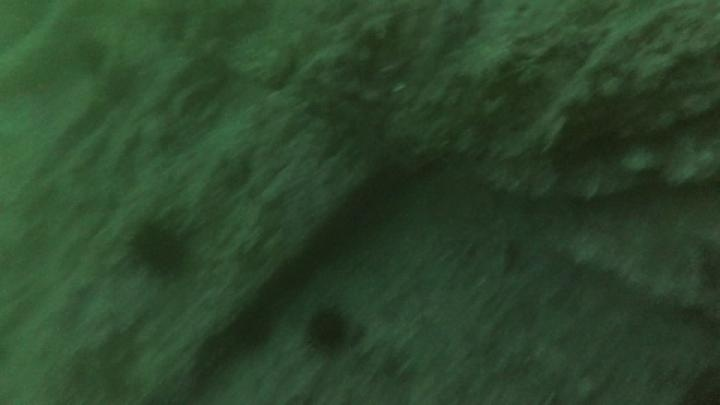echinus: (124, 213, 196, 282), (303, 303, 351, 356), (71, 33, 110, 73)
